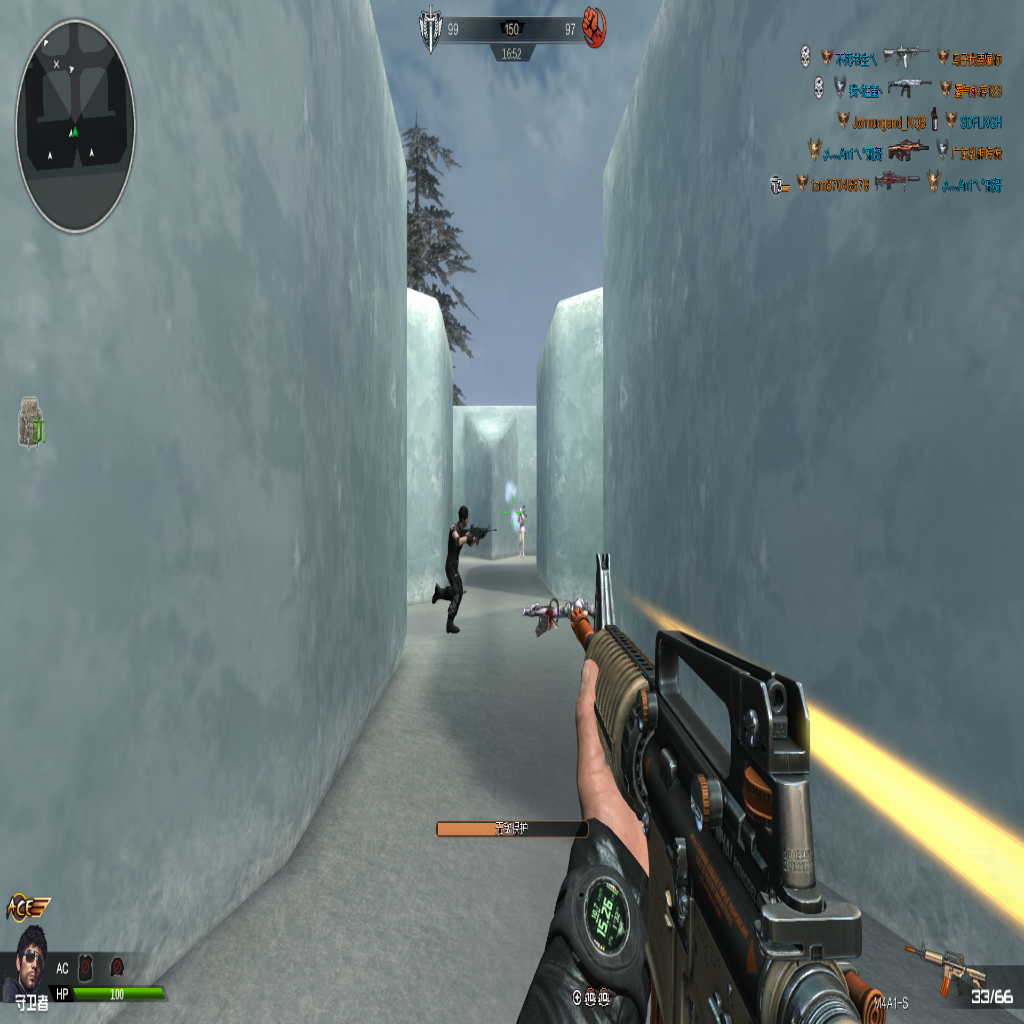ct: (427, 504, 492, 634)
